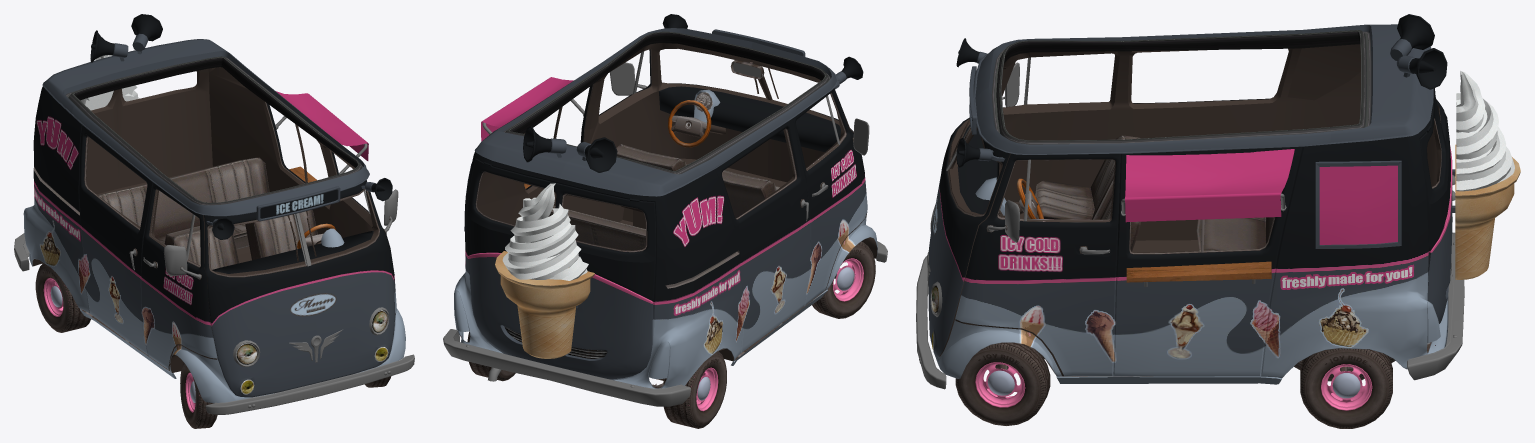
Rendered from asset1.glb.
3 views of the same model, side by side, from view 1: azimuth 30°, elevation 25°; view 2: azimuth 150°, elevation 25°; view 3: azimuth 270°, elevation 25° (orthographic). The views are drawn at different scales.
Parts seen in each view (by area): view 1: node_id143, node_id145, node_id52, node_id147, node_id126, node_id155, node_id131, node_id78, node_id64, node_id59, node_id105, node_id153 (+9 smaller); view 2: node_id143, node_id145, node_id124, node_id120, node_id147, node_id52, node_id128, node_id78, node_id155, node_id131, node_id59, node_id98 (+10 smaller); view 3: node_id143, node_id145, node_id131, node_id147, node_id73, node_id52, node_id124, node_id120, node_id91, node_id84, node_id78, node_id138 (+11 smaller).
Part boxes in pixels (x1=…): node_id143: x1=23, y1=39, x2=405, y2=403; node_id145: x1=32, y1=67, x2=395, y2=397; node_id52: x1=98, y1=157, x2=317, y2=269; node_id147: x1=65, y1=56, x2=362, y2=205; node_id126: x1=205, y1=354, x2=414, y2=414; node_id155: x1=33, y1=102, x2=379, y2=277; node_id131: x1=276, y1=91, x2=368, y2=160; node_id78: x1=90, y1=14, x2=162, y2=62; node_id64: x1=256, y1=186, x2=340, y2=221; node_id59: x1=129, y1=189, x2=398, y2=279; node_id105: x1=35, y1=265, x2=68, y2=329; node_id153: x1=186, y1=190, x2=389, y2=367; node_id143: x1=454, y1=28, x2=877, y2=388; node_id145: x1=477, y1=43, x2=877, y2=361; node_id124: x1=502, y1=183, x2=588, y2=280; node_id120: x1=495, y1=251, x2=594, y2=358; node_id147: x1=504, y1=31, x2=830, y2=174; node_id52: x1=522, y1=144, x2=780, y2=250; node_id128: x1=443, y1=329, x2=690, y2=406; node_id78: x1=523, y1=126, x2=617, y2=172; node_id155: x1=475, y1=49, x2=846, y2=288; node_id131: x1=481, y1=77, x2=573, y2=141; node_id59: x1=609, y1=62, x2=869, y2=221; node_id98: x1=824, y1=245, x2=875, y2=315; node_id143: x1=928, y1=24, x2=1452, y2=384; node_id145: x1=939, y1=44, x2=1441, y2=376; node_id131: x1=1125, y1=149, x2=1294, y2=222; node_id147: x1=991, y1=30, x2=1371, y2=144; node_id73: x1=1319, y1=165, x2=1397, y2=244; node_id52: x1=1035, y1=135, x2=1273, y2=251; node_id124: x1=1456, y1=71, x2=1514, y2=191; node_id120: x1=1455, y1=144, x2=1520, y2=279; node_id91: x1=1305, y1=349, x2=1388, y2=426; node_id84: x1=959, y1=346, x2=1042, y2=423; node_id78: x1=1390, y1=14, x2=1447, y2=89; node_id138: x1=1126, y1=261, x2=1271, y2=282.
Size of the model in its own units: 0.5053 by 0.511 by 0.8367.
Materials: 56 (56 with a texture image).
